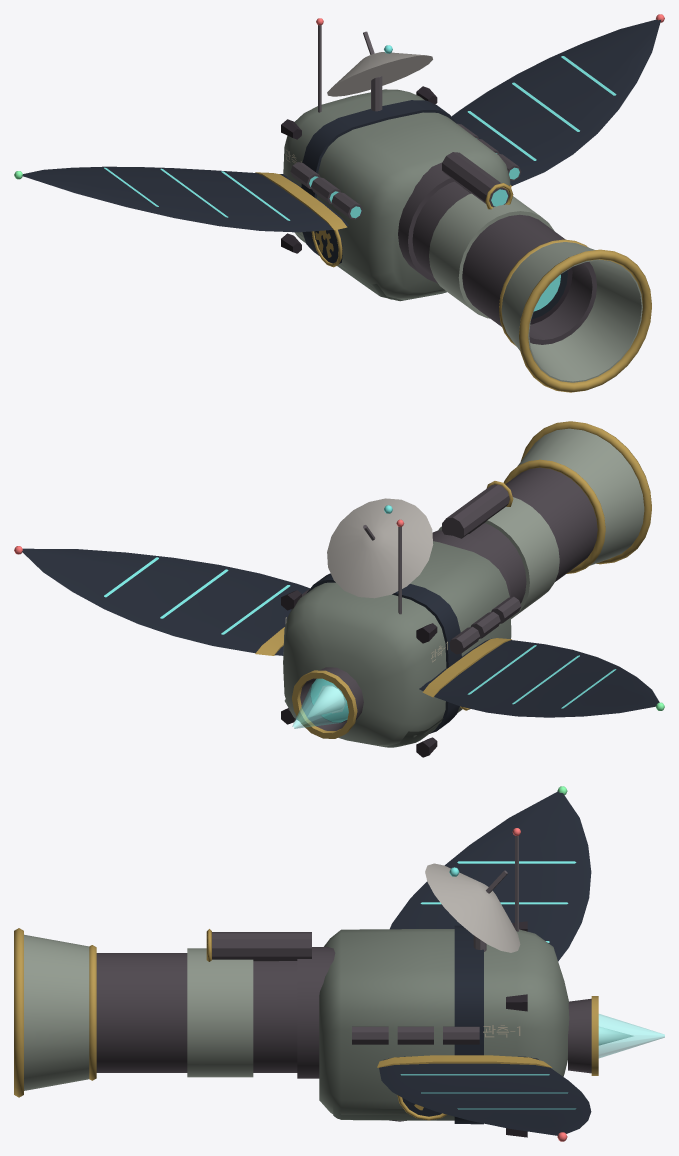
File: elfinia_probe.glb
The picture shows the model from 3 angles, top to bottom: view 1: azimuth 30°, elevation 25°; view 2: azimuth 150°, elevation 25°; view 3: azimuth 270°, elevation 25°; orthographic projection. The views are drawn at different scales.
Visible parts, largest first — view 1: elfinia_probe_body, elfinia_probe_glow, elfinia_probe_fine; view 2: elfinia_probe_body, elfinia_probe_glow, elfinia_probe_plume, elfinia_probe_fine; view 3: elfinia_probe_body, elfinia_probe_glow, elfinia_probe_plume, elfinia_probe_fine.
Boxes of the visible parts, bbox=[...] form: elfinia_probe_body: bbox=[22, 19, 660, 392]; elfinia_probe_glow: bbox=[14, 14, 664, 311]; elfinia_probe_fine: bbox=[285, 149, 567, 319]; elfinia_probe_body: bbox=[22, 421, 659, 757]; elfinia_probe_glow: bbox=[14, 505, 664, 722]; elfinia_probe_plume: bbox=[292, 678, 348, 728]; elfinia_probe_fine: bbox=[284, 617, 462, 747]; elfinia_probe_body: bbox=[14, 791, 598, 1137]; elfinia_probe_glow: bbox=[400, 786, 633, 1141]; elfinia_probe_plume: bbox=[598, 1014, 664, 1058]; elfinia_probe_fine: bbox=[333, 1025, 520, 1120].
Size of the model in its own units: 11.3 by 3.97 by 8.89.
